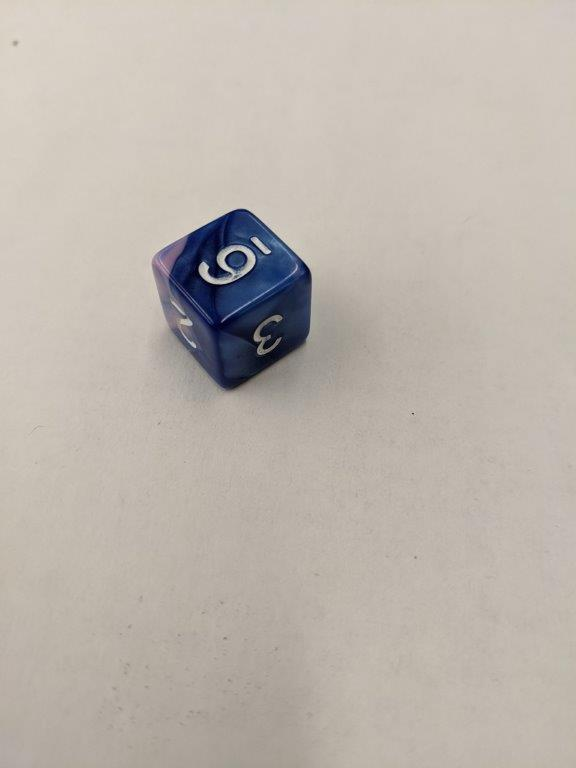d6-6: (154, 207, 311, 390)
